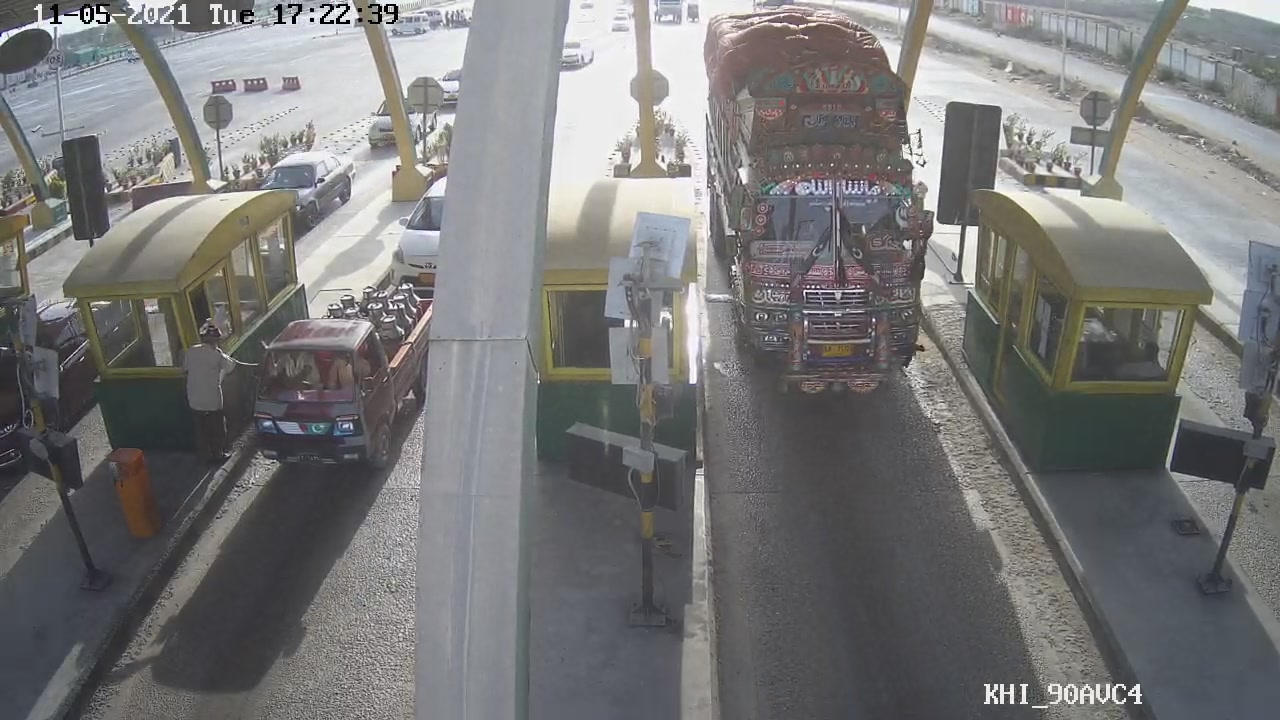F5: (691, 11, 957, 404)
